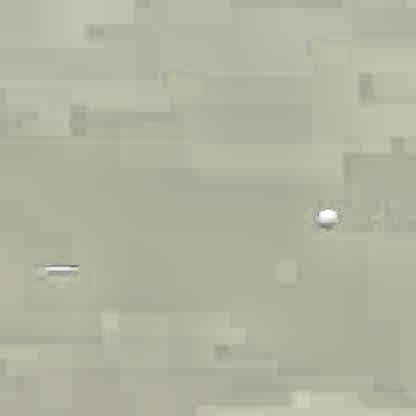golfball: (314, 206, 334, 226)
